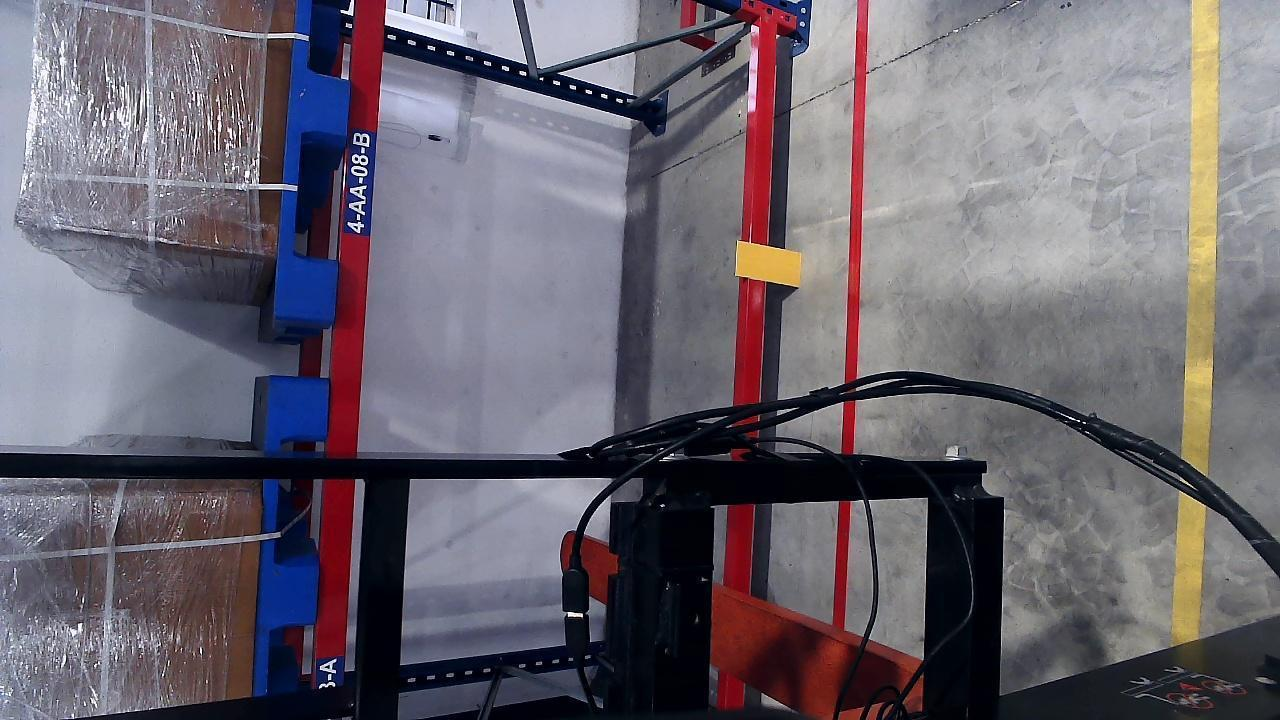red_line: (836, 0, 869, 627)
yellow_line: (1169, 0, 1222, 640)
